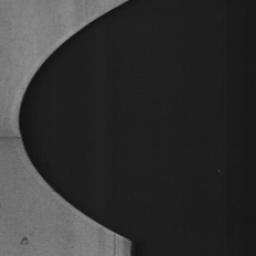Crescent gap: (19, 2, 129, 240)
